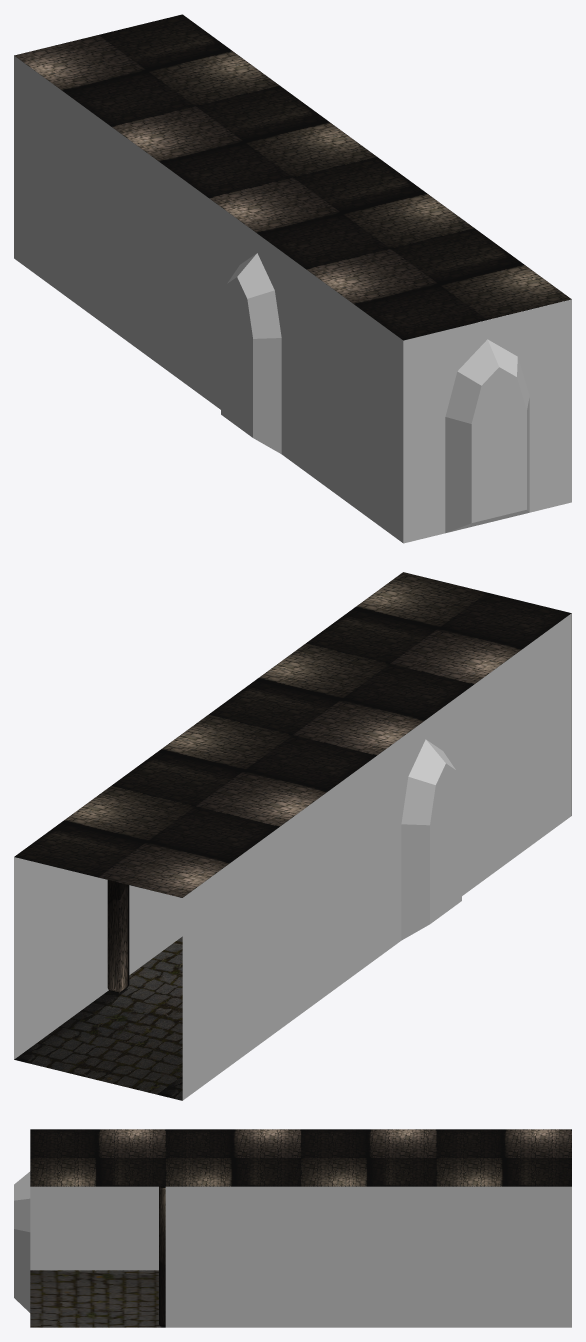
The model's file is corridor01.fbx.
3 views of the same model, one above another, from view 1: azimuth 30°, elevation 25°; view 2: azimuth 150°, elevation 25°; view 3: azimuth 270°, elevation 25° (orthographic). The views are drawn at different scales.
Visible parts, largest first — view 1: castle_wall01, castle_ceiling01; view 2: castle_wall01, castle_ceiling01, castle_floor01, castle_beam01; view 3: castle_wall01, castle_ceiling01, castle_floor01, castle_beam01.
Part boxes in pixels (<box>): castle_wall01: <box>14,56,571,543</box>; castle_ceiling01: <box>14,14,571,340</box>; castle_wall01: <box>14,572,571,1100</box>; castle_ceiling01: <box>14,572,571,897</box>; castle_floor01: <box>14,936,182,1100</box>; castle_beam01: <box>107,880,129,993</box>; castle_wall01: <box>14,1171,571,1327</box>; castle_ceiling01: <box>30,1129,571,1186</box>; castle_floor01: <box>30,1270,165,1327</box>; castle_beam01: <box>159,1186,165,1325</box>.
Size of the model in its own units: 224 by 230 by 824.
